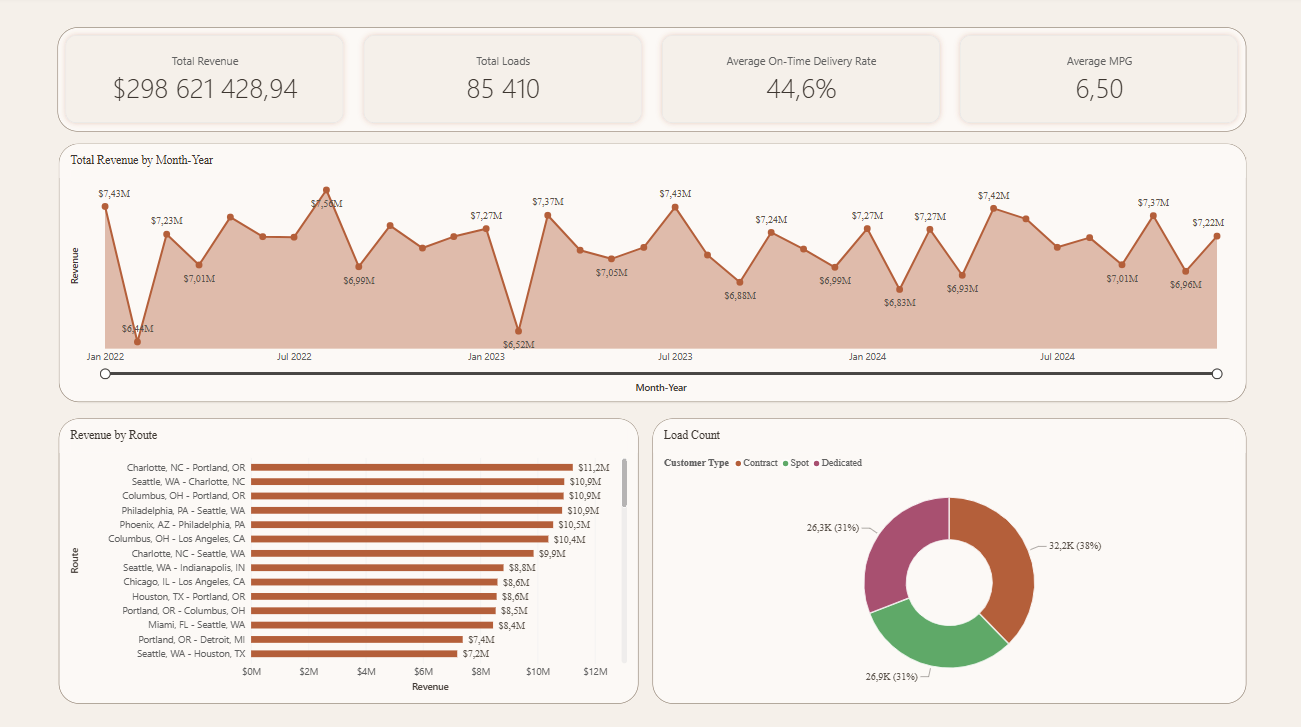

Layout of this report page (visuals, bound fields, positions):
{"tool":"powerbi","page":{"name":"Executive Overview","canvas":[1920,1080],"ordinal":0},"visuals":[{"type":"cardVisual","fields":{"Data":["fact_loads.total_revenue","CountNonNull(fact_loads.load_id)","Avg(fact_driver_monthly_metrics.on_time_delivery_rate)","Avg(fact_driver_monthly_metrics.average_mpg)"]},"box":[84.6,46,1750.8,153.7],"z":0},{"type":"lineChart","title":"Total Revenue by Month-Year","fields":{"Category":["fact_driver_monthly_metrics.month"],"Y":["Sum(fact_driver_monthly_metrics.total_revenue)"]},"box":[86.5,217.2,1748.6,380.9],"z":1000},{"type":"clusteredBarChart","title":"Revenue by Route","fields":{"Category":["dim_routes.route"],"Y":["fact_loads.total_revenue"]},"box":[86.5,622.1,854,419.6],"z":2000},{"type":"donutChart","title":"Load Count","fields":{"Category":["dim_customers.customer_type"],"Y":["CountNonNull(fact_loads.load_type)"]},"box":[960.7,622.1,874.2,419.6],"z":3000}]}

Visuals, with their boxes in screenshot pixels (x1, y1, x2, y2), scaled from the page's 1920x1080 canvas onto the 1301x727 screenshot:
cardVisual - fact_loads.total_revenue x CountNonNull(fact_loads.load_id): 57,31,1244,134
"Total Revenue by Month-Year" lineChart: 59,146,1243,403
"Revenue by Route" clusteredBarChart: 59,419,637,701
"Load Count" donutChart: 651,419,1243,701
